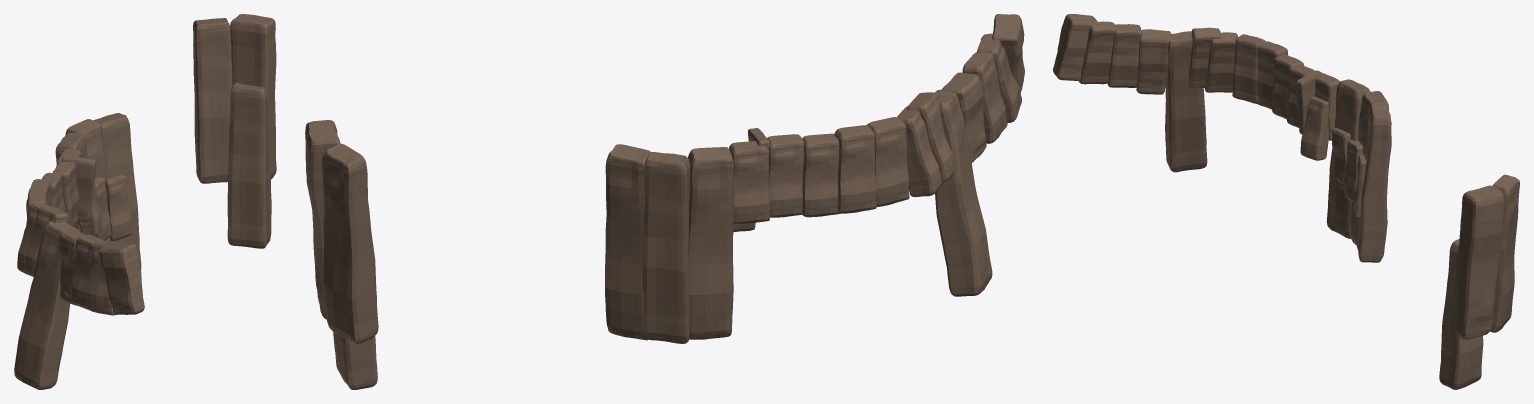
Rendered from BackDrop_Cliff.glb.
3 views of the same model, side by side, from view 1: azimuth 30°, elevation 25°; view 2: azimuth 150°, elevation 25°; view 3: azimuth 270°, elevation 25° (orthographic). The views are drawn at different scales.
Visible parts, largest first — view 1: CliffPiece.023, CliffPiece.021, CliffPiece.016, CliffPiece.022, CliffPiece.012, CliffPiece.020, CliffPiece.015, CliffPiece.018, CliffPiece.019, CliffPiece.008, CliffPiece.017, CliffPiece.011 (+9 smaller); view 2: CliffPiece.021, CliffPiece.011, CliffPiece.010, CliffPiece.012, CliffPiece.016, CliffPiece.004, CliffPiece.003, CliffPiece.001, CliffPiece.022, CliffPiece.007, CliffPiece.002, CliffPiece.006 (+6 smaller); view 3: CliffPiece.022, CliffPiece.016, CliffPiece.012, CliffPiece.023, CliffPiece.021, CliffPiece.010, CliffPiece.017, CliffPiece.020, CliffPiece.018, CliffPiece.019, CliffPiece.007, CliffPiece.006 (+11 smaller).
Boxes of the visible parts, bbox=[...] form: CliffPiece.023: bbox=[227, 82, 271, 248]; CliffPiece.021: bbox=[193, 18, 232, 183]; CliffPiece.016: bbox=[14, 221, 79, 389]; CliffPiece.022: bbox=[230, 14, 276, 179]; CliffPiece.012: bbox=[94, 113, 141, 269]; CliffPiece.020: bbox=[98, 243, 144, 314]; CliffPiece.015: bbox=[105, 174, 132, 241]; CliffPiece.018: bbox=[70, 234, 103, 310]; CliffPiece.019: bbox=[88, 240, 118, 315]; CliffPiece.008: bbox=[61, 155, 96, 221]; CliffPiece.017: bbox=[59, 230, 86, 305]; CliffPiece.011: bbox=[65, 119, 112, 242]; CliffPiece.021: bbox=[322, 143, 378, 343]; CliffPiece.011: bbox=[641, 152, 689, 343]; CliffPiece.010: bbox=[688, 147, 733, 339]; CliffPiece.012: bbox=[605, 144, 650, 340]; CliffPiece.016: bbox=[935, 89, 992, 296]; CliffPiece.004: bbox=[834, 125, 876, 213]; CliffPiece.003: bbox=[802, 133, 840, 217]; CliffPiece.001: bbox=[729, 141, 770, 224]; CliffPiece.022: bbox=[305, 120, 340, 319]; CliffPiece.007: bbox=[867, 117, 909, 206]; CliffPiece.002: bbox=[767, 134, 804, 217]; CliffPiece.006: bbox=[896, 106, 942, 197]; CliffPiece.022: bbox=[1455, 185, 1504, 339]; CliffPiece.016: bbox=[1165, 31, 1207, 172]; CliffPiece.012: bbox=[1356, 104, 1391, 262]; CliffPiece.023: bbox=[1439, 239, 1483, 389]; CliffPiece.021: bbox=[1490, 174, 1519, 332]; CliffPiece.010: bbox=[1326, 79, 1370, 238]; CliffPiece.017: bbox=[1136, 29, 1171, 94]; CliffPiece.020: bbox=[1053, 14, 1098, 80]; CliffPiece.018: bbox=[1107, 24, 1142, 87]; CliffPiece.019: bbox=[1078, 21, 1117, 84]; CliffPiece.007: bbox=[1232, 34, 1265, 103]; CliffPiece.006: bbox=[1204, 32, 1237, 92].
Size of the model in its own units: 240 by 129 by 253.
